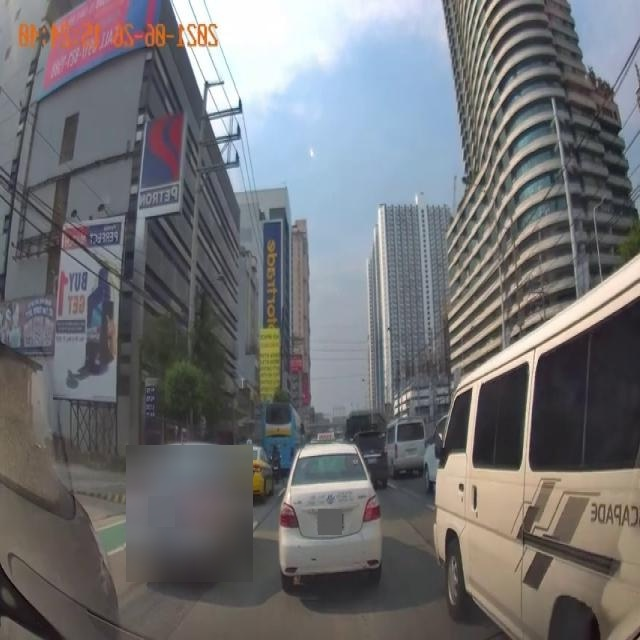bus: (262, 404, 304, 476)
car: (436, 263, 640, 628), (273, 443, 381, 585), (385, 414, 430, 476)
